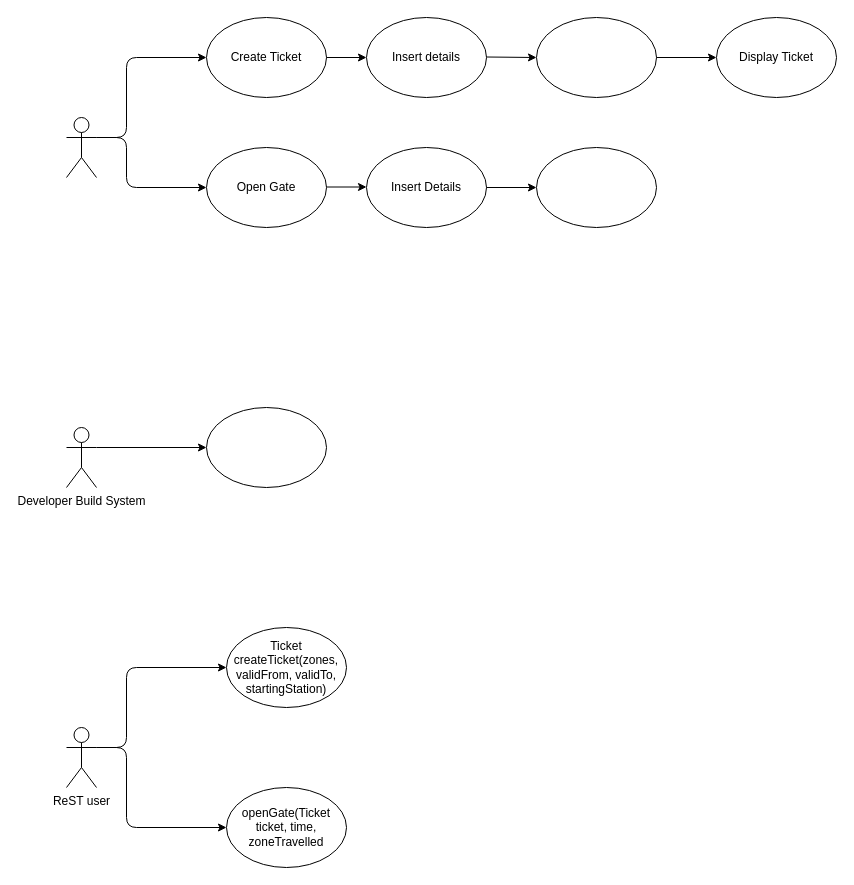
Some shapes in this 854 by 885 pixel diagram are drawn without their labels. The shapes that lost their labels are listed below. From the top down, each one's centre as x and y in pixels, then its label:
[596,57]: Generate Ticket
[81,147]: Customer
[596,187]: Check the ticket
[266,447]: generate public and private keys
